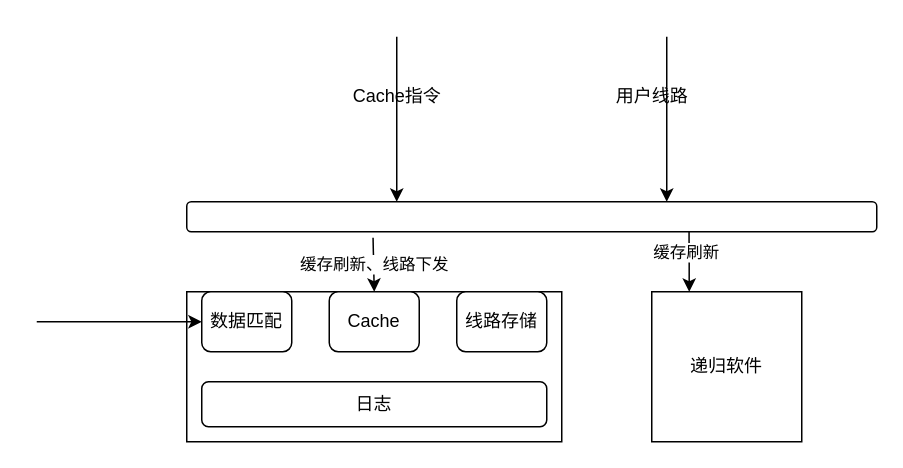
The diagram is 903 pixels wide and 468 high, and some of its shapes have lost their labels. The shapes that lost their labels are listed below. From the top down, each one's box as (x1, y1, x2, y2) in pixels, then its label:
(185, 200, 877, 232): Agent
(185, 290, 562, 442): axdns
